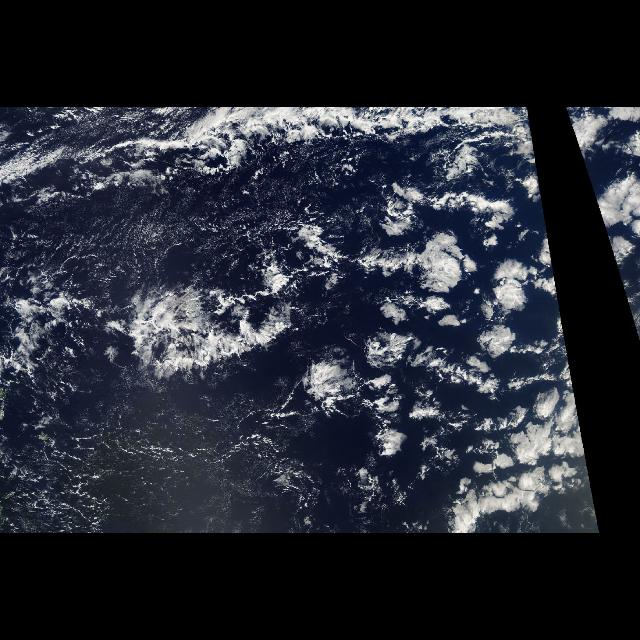Fish: (113, 248, 294, 379)
Flower: (300, 138, 568, 476)
Gravel: (0, 263, 100, 533)
Sugar: (1, 182, 270, 294), (8, 398, 222, 532)
